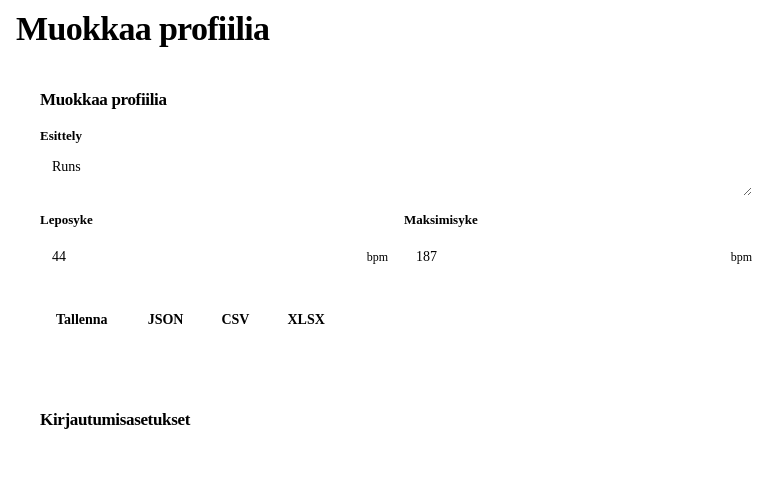
it: ProfilePage › shows an error when saving fails
Click the button "Tallenna": (82, 320) [40,300,124,340]
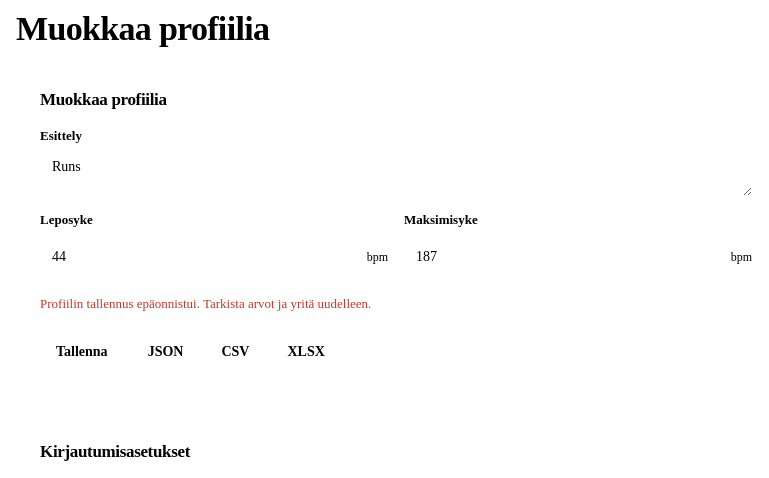
Now the message "Profiilin tallennus epäonnistui. Tarkista arvot ja yritä uudelleen." is shown, box [40,296,371,311]
